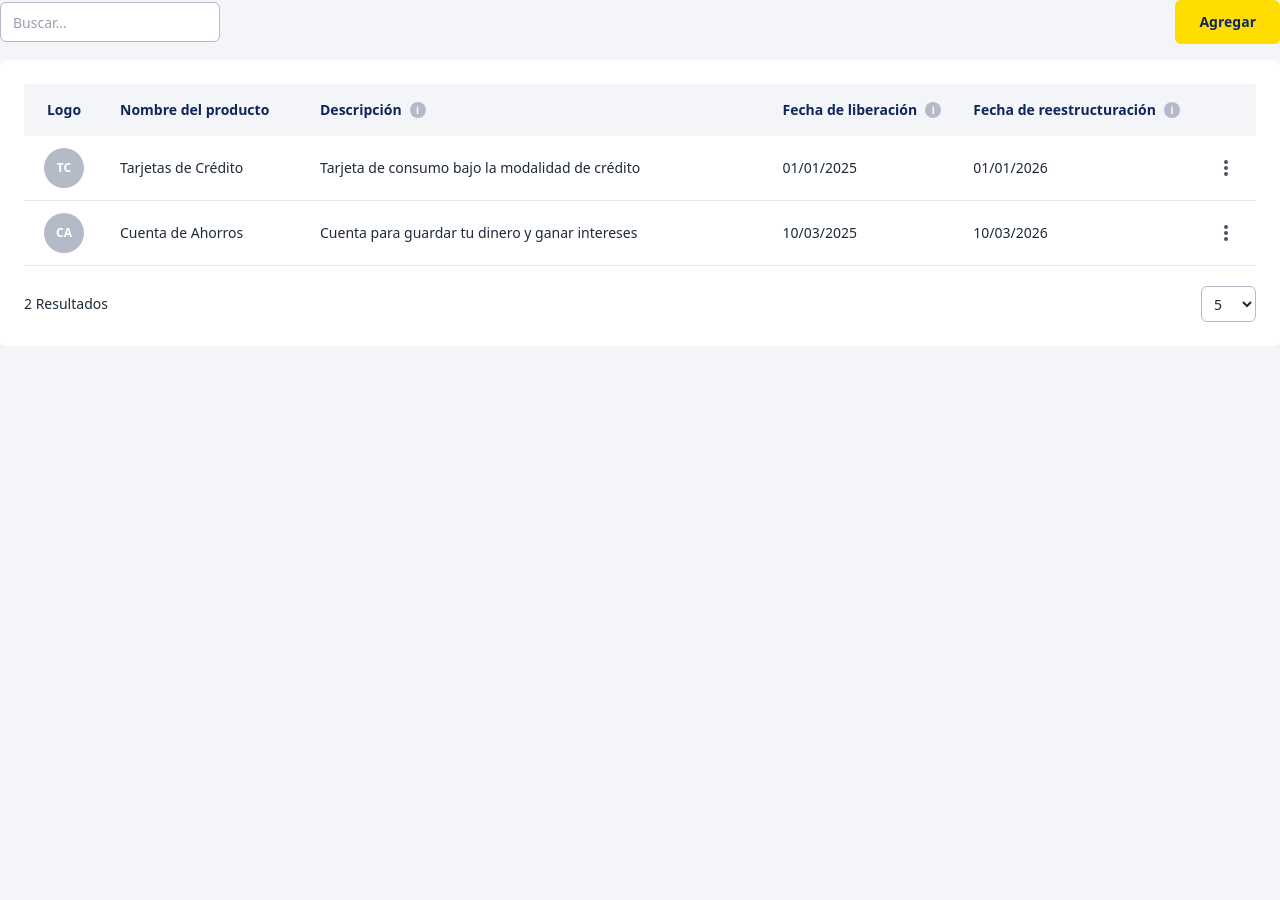
Test: ProductsComponent › menu de opciones › deberia solo ocultar el modal al cancelar
The width and height of the screenshot is (1280, 900).
Click the button named "Opciones de Tarjetas de Crédito": point(1226, 168) [1210,152,1242,184]
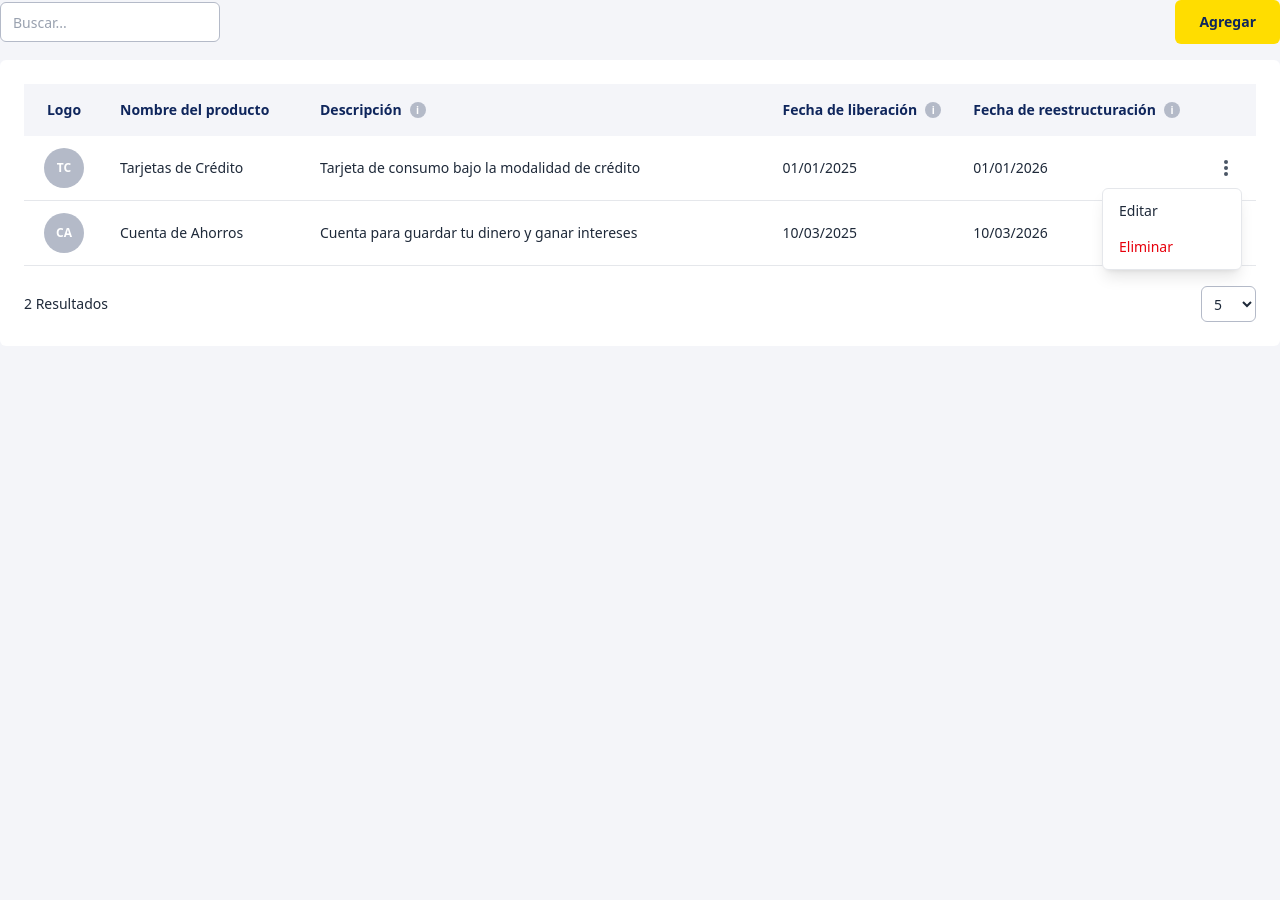
Click the menu item "Eliminar": point(1172, 247) [1103,229,1241,265]
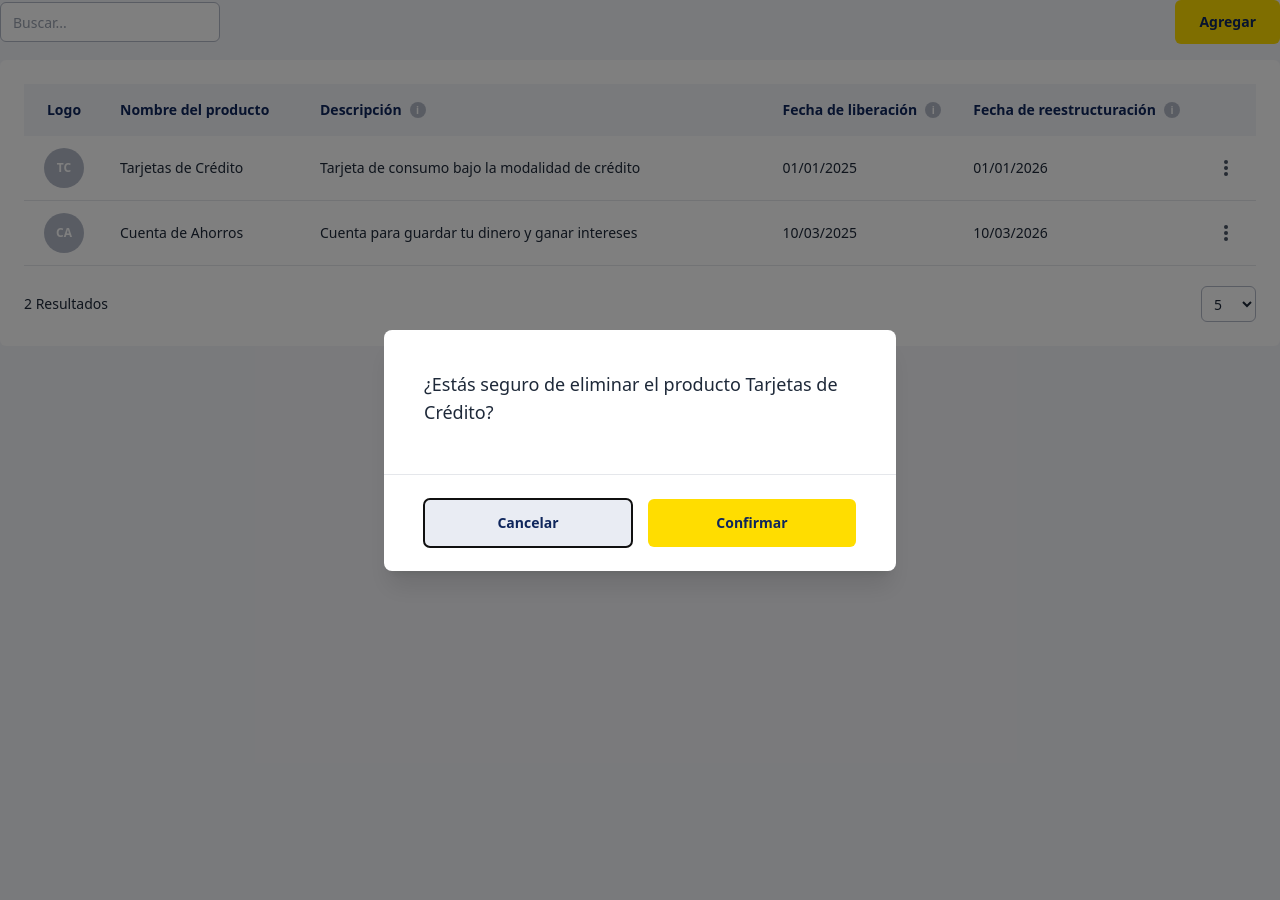
Click the button "Cancelar": point(528, 522) [424,498,632,546]
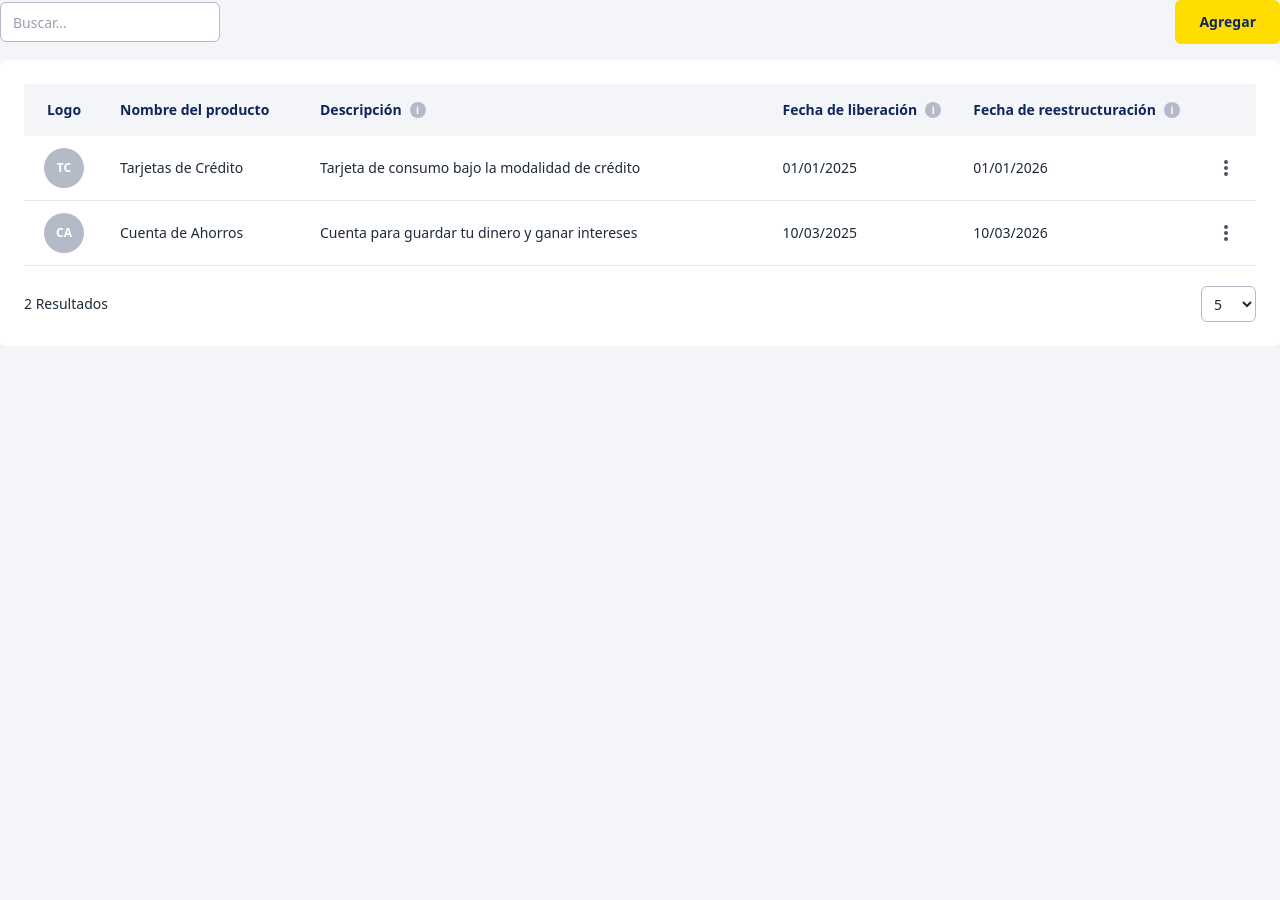
Now the dialog is gone
